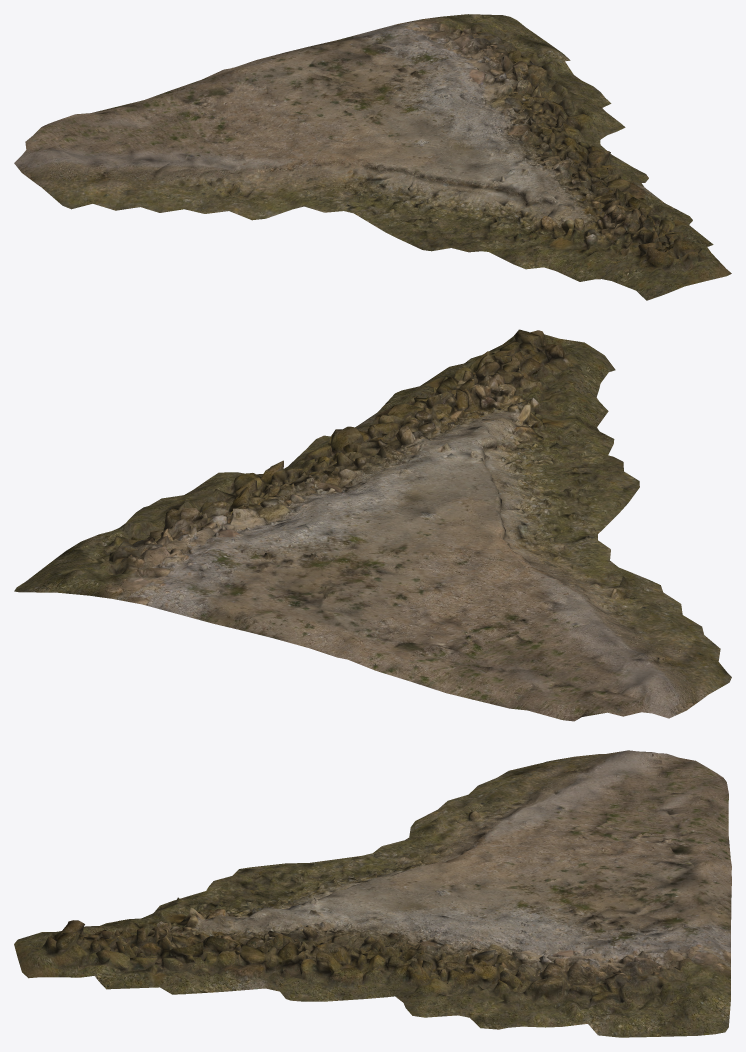
Rendered from coast_rocks_02-lod.glb.
The picture shows the model from 3 angles, top to bottom: view 1: azimuth 30°, elevation 25°; view 2: azimuth 150°, elevation 25°; view 3: azimuth 270°, elevation 25°; orthographic projection. The views are drawn at different scales.
Parts seen in each view (by area): view 1: coast_rocks_02; view 2: coast_rocks_02; view 3: coast_rocks_02.
Part boxes in pixels (box(x1,y1,x2,y2)): coast_rocks_02: box(14, 14, 731, 300); coast_rocks_02: box(14, 329, 731, 721); coast_rocks_02: box(14, 750, 731, 1037).
Bounding box in the file's own units: 45.96 × 3.06 × 49.46.
Materials: 1 (1 with a texture image).
